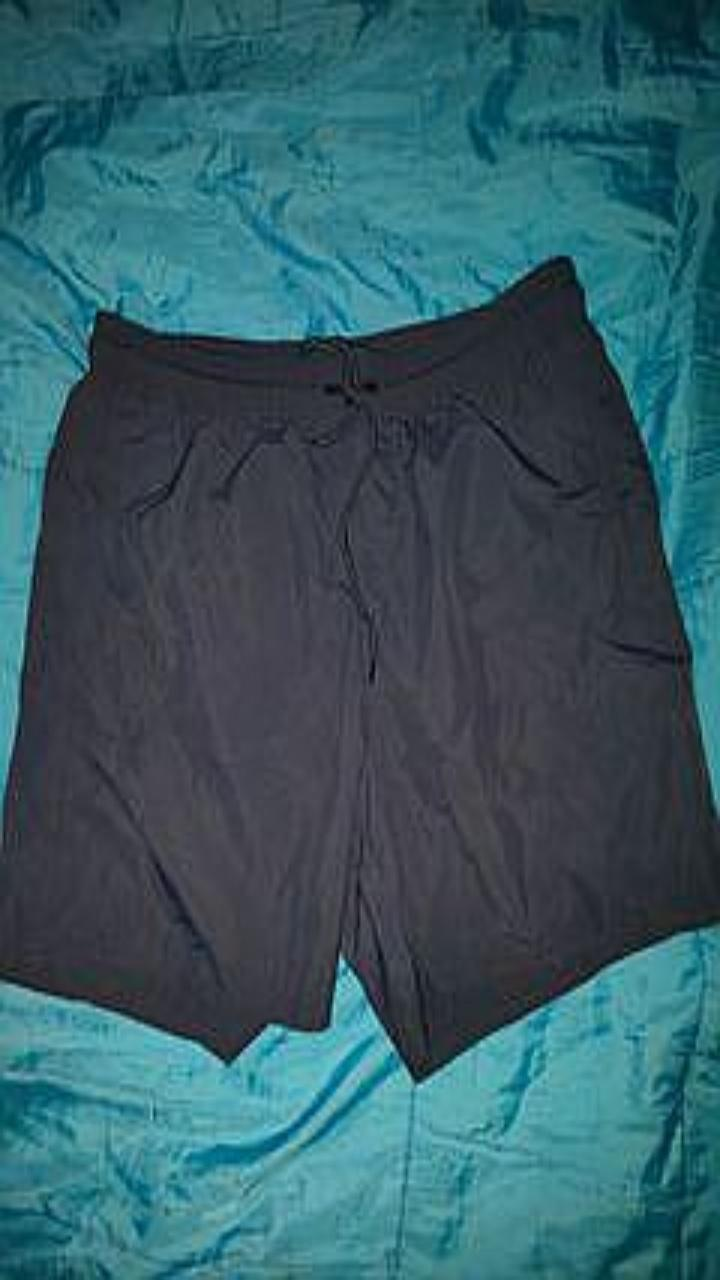Shorts: (0, 256, 719, 1080)
